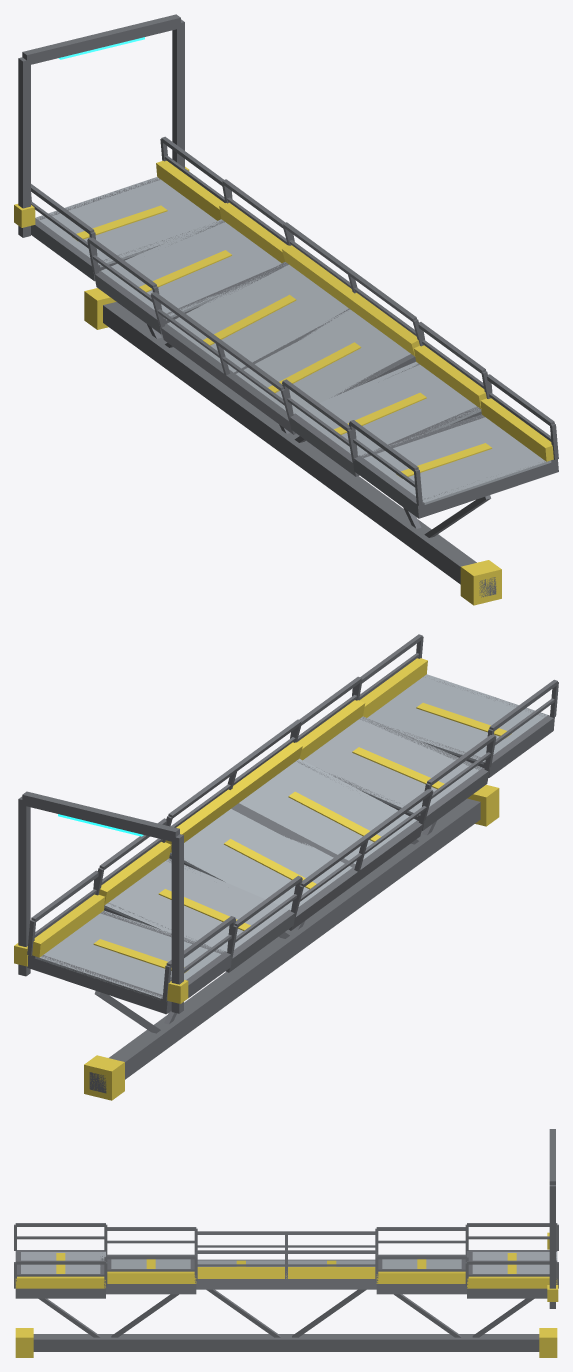
The model's file is scaffold_curved_bank_g08.glb.
The picture shows the model from 3 angles, top to bottom: view 1: azimuth 30°, elevation 25°; view 2: azimuth 150°, elevation 25°; view 3: azimuth 270°, elevation 25°; orthographic projection. The views are drawn at different scales.
Visible parts, largest first — view 1: Spine, Deck_a2, Deck_a1, Deck_a3, Deck_a4, Deck_a5, Deck_a0, PortalLintel, PortalPost_-1, PortalPost_1, Header_a5_1, Kerb_a5 (+16 smaller); view 2: Spine, Deck_a3, Deck_a4, Deck_a2, Deck_a5, Deck_a0, Deck_a1, PortalLintel, Header_a0_0, PortalPost_-1, PortalPost_1, Kerb_a0 (+20 smaller); view 3: Spine, Deck_a5, Deck_a0, Kerb_a5, Kerb_a1, Kerb_a4, Kerb_a0, Kerb_a2, Kerb_a3, Frame_a2_1, Frame_a1_1, Frame_a3_1 (+33 smaller).
Part boxes in pixels (x1=…): Spine: x1=103, y1=302, x2=496, y2=597; Deck_a2: x1=167, y1=262, x2=348, y2=370; Deck_a1: x1=101, y1=219, x2=281, y2=320; Deck_a3: x1=232, y1=309, x2=410, y2=413; Deck_a4: x1=296, y1=362, x2=481, y2=455; Deck_a5: x1=360, y1=416, x2=551, y2=504; Deck_a0: x1=35, y1=177, x2=216, y2=267; PortalLintel: x1=22, y1=14, x2=180, y2=64; PortalPost_-1: x1=18, y1=57, x2=30, y2=237; PortalPost_1: x1=172, y1=19, x2=184, y2=167; Header_a5_1: x1=414, y1=461, x2=552, y2=517; Kerb_a5: x1=480, y1=398, x2=553, y2=461; Spine: x1=89, y1=798, x2=480, y2=1093; Deck_a3: x1=239, y1=758, x2=416, y2=863; Deck_a4: x1=303, y1=716, x2=481, y2=816; Deck_a2: x1=170, y1=809, x2=352, y2=909; Deck_a5: x1=367, y1=674, x2=547, y2=764; Deck_a0: x1=35, y1=910, x2=224, y2=999; Deck_a1: x1=104, y1=858, x2=288, y2=951; PortalLintel: x1=22, y1=791, x2=179, y2=842; Header_a0_0: x1=28, y1=955, x2=170, y2=1013; PortalPost_-1: x1=171, y1=834, x2=183, y2=1013; PortalPost_1: x1=18, y1=796, x2=30, y2=976; Kerb_a0: x1=32, y1=894, x2=104, y2=957; Spine: x1=33, y1=1334, x2=539, y2=1351; Deck_a5: x1=21, y1=1252, x2=105, y2=1273; Deck_a0: x1=472, y1=1252, x2=557, y2=1273; Kerb_a5: x1=15, y1=1276, x2=105, y2=1288; Kerb_a1: x1=376, y1=1271, x2=465, y2=1283; Kerb_a4: x1=107, y1=1271, x2=196, y2=1283; Kerb_a0: x1=467, y1=1276, x2=557, y2=1288; Kerb_a2: x1=286, y1=1267, x2=375, y2=1278; Kerb_a3: x1=197, y1=1267, x2=286, y2=1278; Frame_a2_1: x1=286, y1=1279, x2=375, y2=1289; Frame_a1_1: x1=376, y1=1284, x2=466, y2=1294; Frame_a3_1: x1=196, y1=1279, x2=286, y2=1289.
Size of the model in its own units: 2.98 by 4.84 by 12.07.
